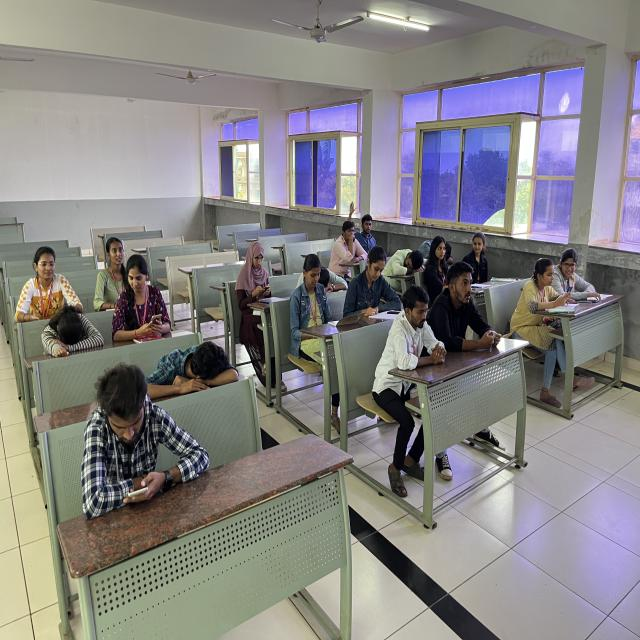Hand Rising: (338, 191, 386, 254)
Reading: (344, 244, 402, 318)
Sleeping: (152, 336, 258, 408), (40, 293, 114, 367), (387, 235, 429, 283)
Using Phone: (52, 350, 222, 545), (106, 251, 194, 343), (509, 250, 576, 341), (229, 230, 286, 335), (290, 253, 342, 352)
